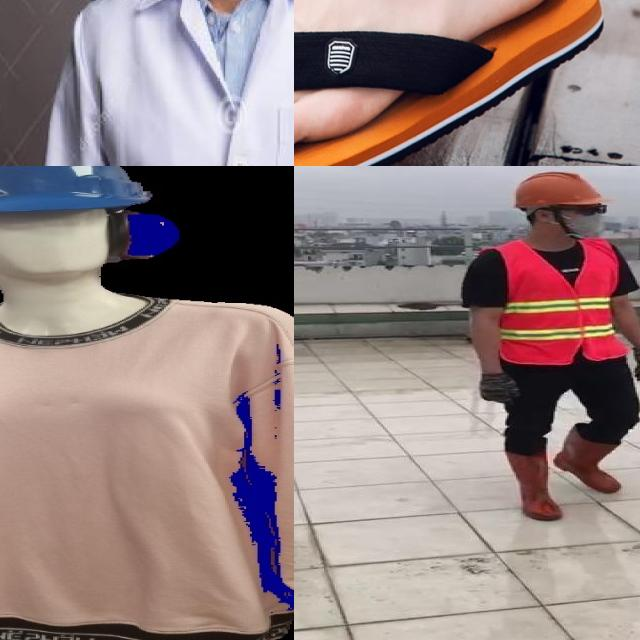Ear-protection: (0, 209, 229, 273)
Sandals: (294, 0, 608, 166)
boots: (555, 426, 623, 492), (504, 452, 564, 520)
head_helmet: (0, 166, 186, 225), (507, 166, 612, 210)
person: (458, 166, 640, 521), (41, 0, 294, 166)
vest: (488, 241, 632, 365)
